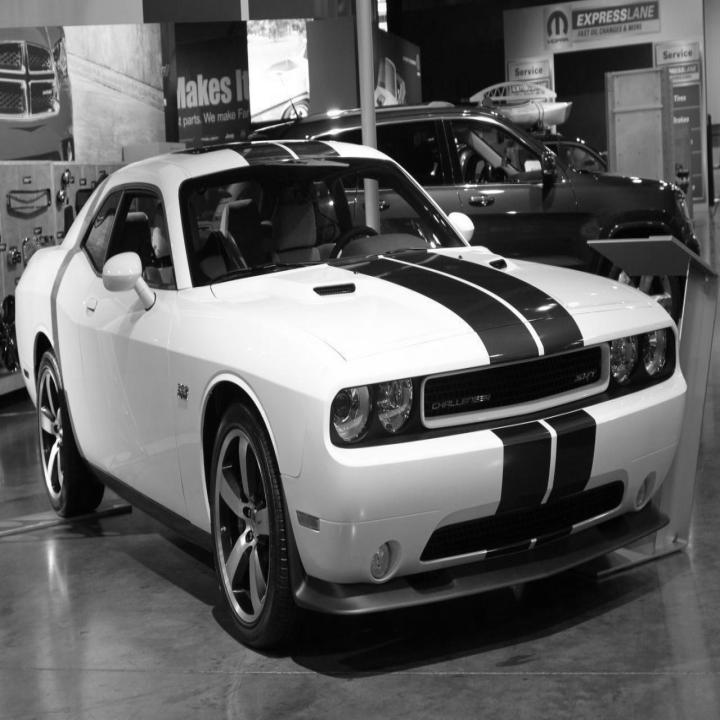car: (13, 134, 688, 650), (248, 104, 704, 328), (0, 25, 75, 162)
